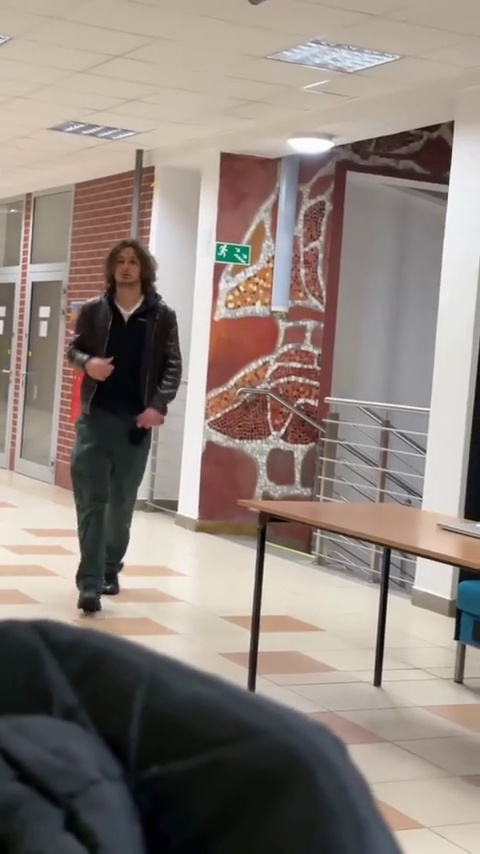no vest: (69, 235, 182, 613)
